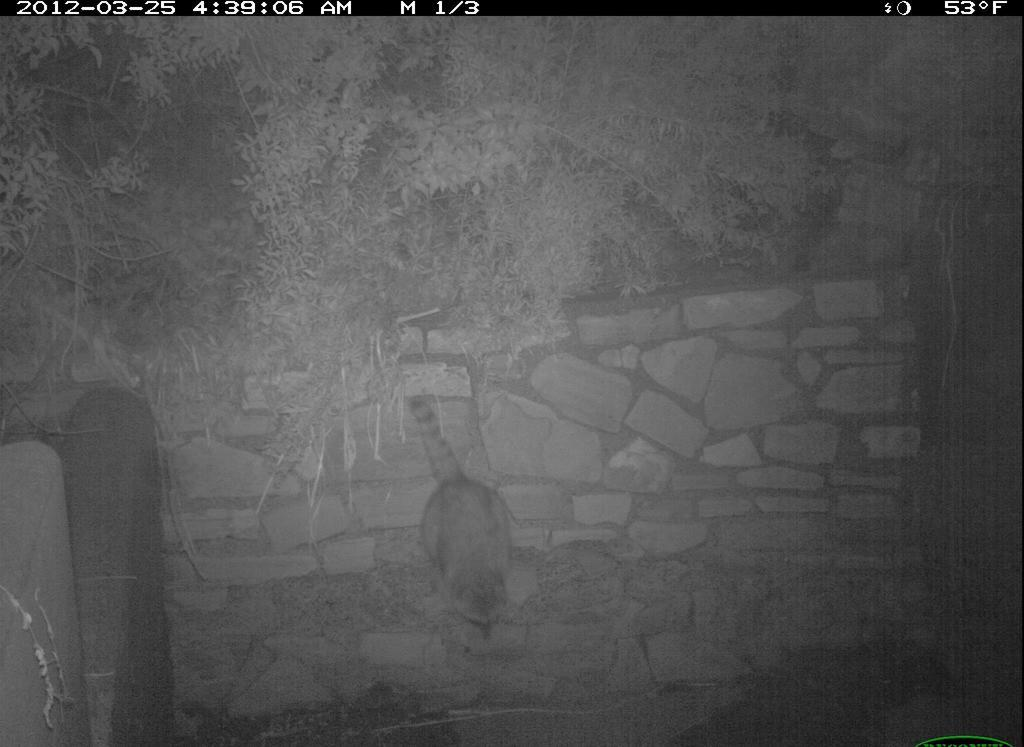raccoon: (408, 392, 527, 642)
